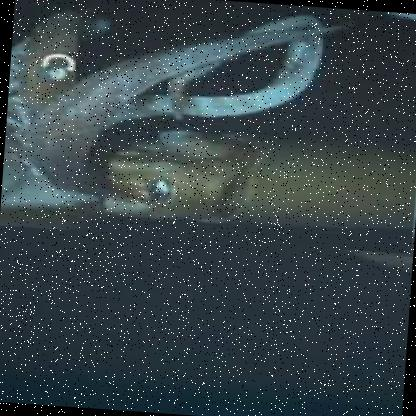colossal_squid: (0, 0, 415, 255)
